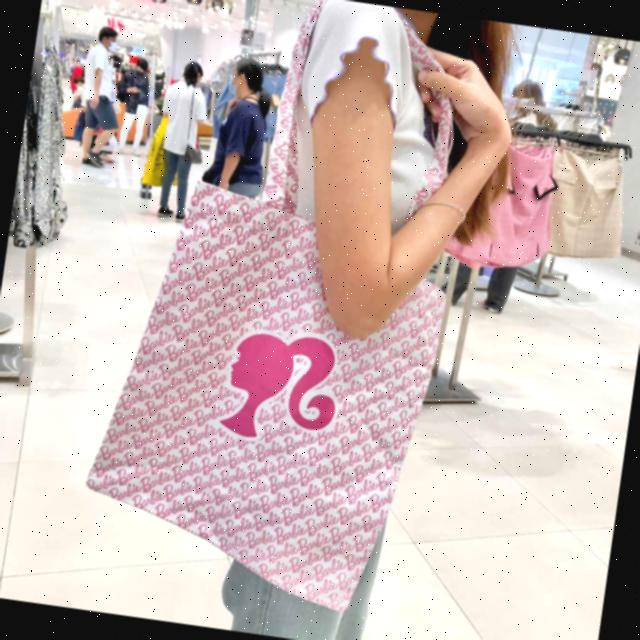Handbag: (72, 164, 480, 631)
